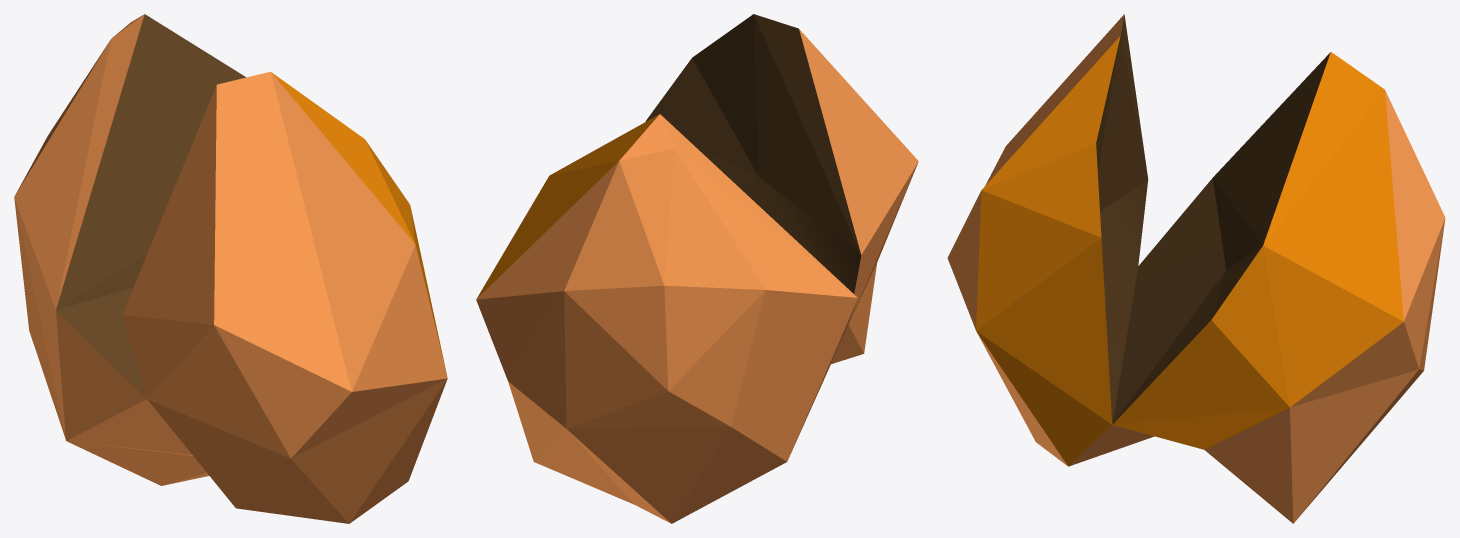
The model's file is peach sliced_2.fbx.
3 renders of one model, left to right at view 1: azimuth 30°, elevation 25°; view 2: azimuth 150°, elevation 25°; view 3: azimuth 270°, elevation 25°, orthographic. The views are drawn at different scales.
Parts seen in each view (by area): view 1: Peach_4_1; view 2: Peach_4_1; view 3: Peach_4_1.
Part boxes in pixels (bbox=[...]): Peach_4_1: bbox=[14, 14, 447, 523]; Peach_4_1: bbox=[476, 14, 918, 523]; Peach_4_1: bbox=[947, 14, 1445, 523].
Size of the model in its own units: 19.95 by 26.13 by 26.46.
